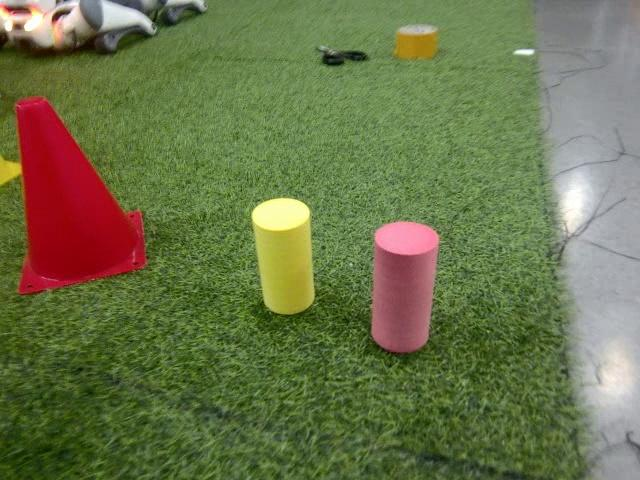red_barrel: (11, 96, 148, 297)
red_cylinder: (374, 218, 441, 353)
yellow_cylinder: (247, 196, 317, 314)
